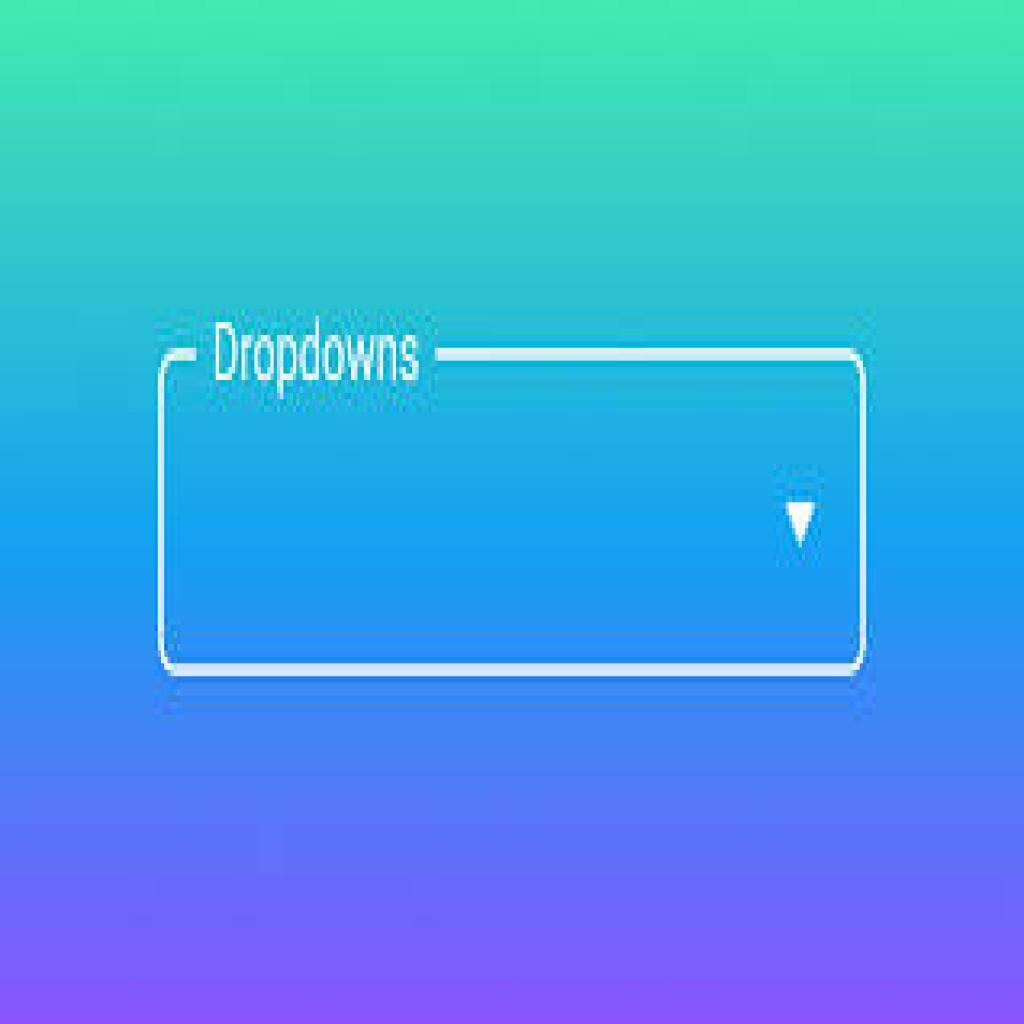dropdown: (159, 349, 869, 678)
label: (210, 322, 426, 396)
